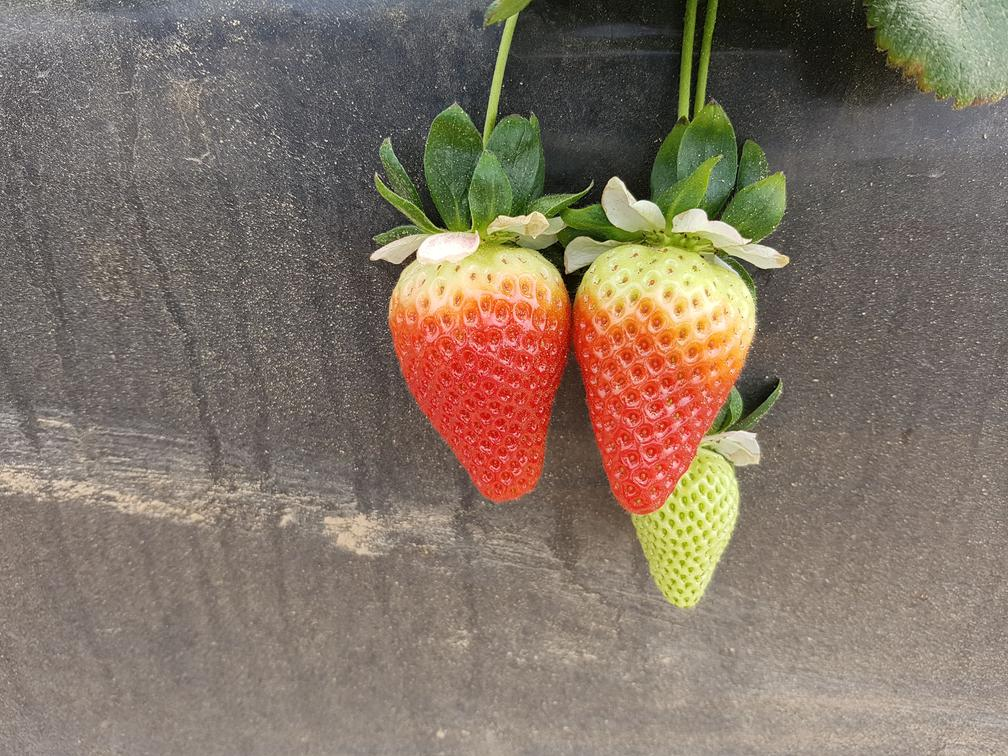Ripe: (386, 239, 561, 510), (577, 234, 737, 512)
Unripe: (645, 469, 735, 606)
